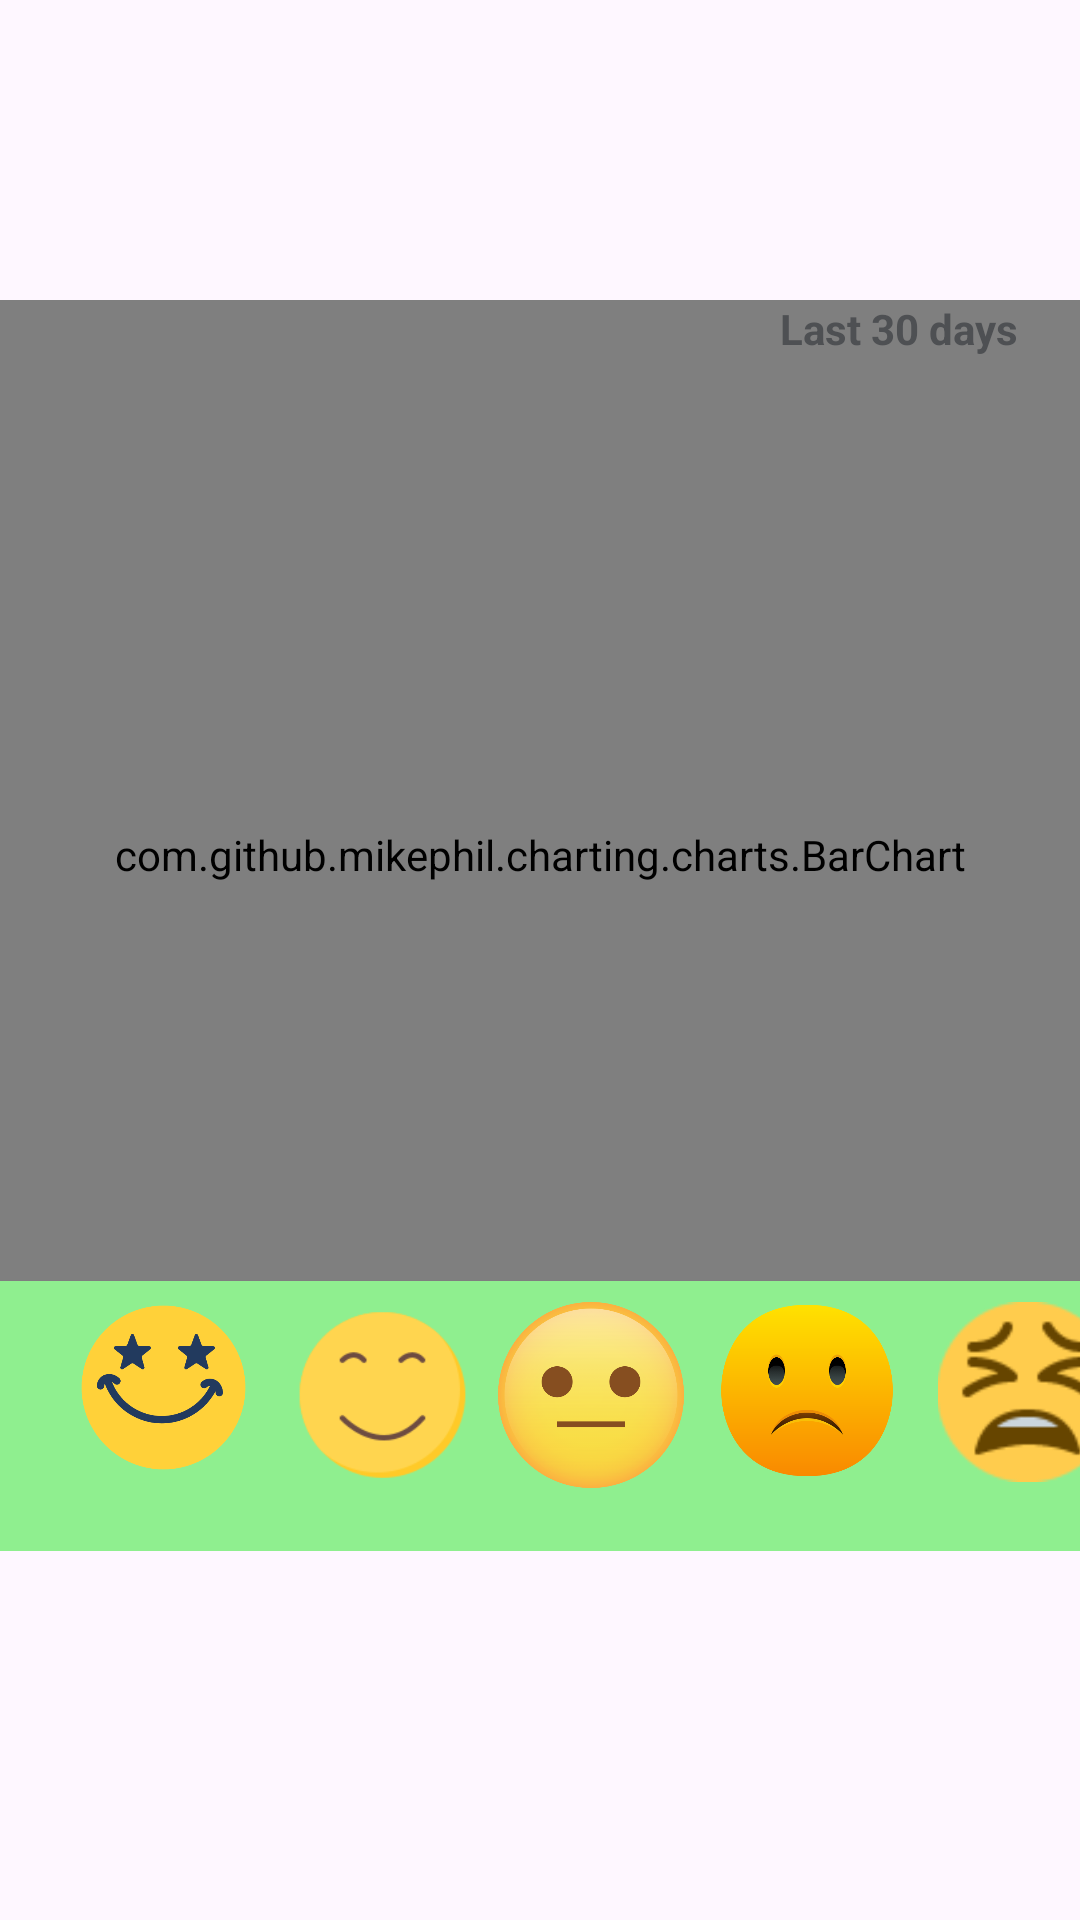

Point at icon controls on the screen. Image size 1080px×1920px, points as point (x, y).
awesome: point (163, 1387)
bad: point (807, 1390)
good: point (382, 1395)
okay: point (591, 1395)
